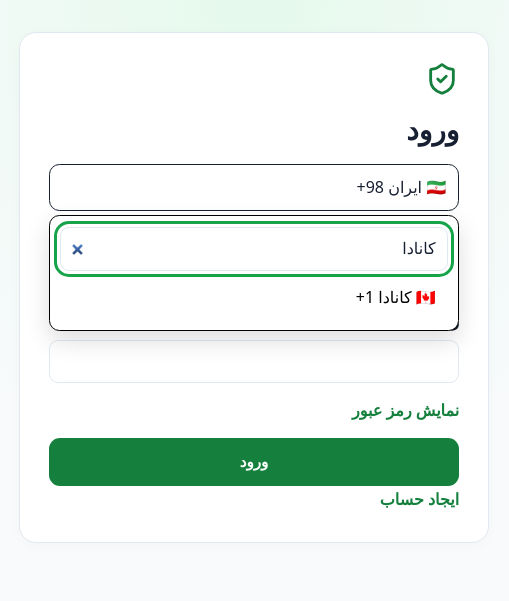
Test case: country search and selection, national input, validation, password visibility and login
Earlier steps of the test are not shown.
Later steps or results of the test are not shown.
Click the button "🇨🇦 کانادا +1" at point(395, 297), box [60, 275, 448, 320]
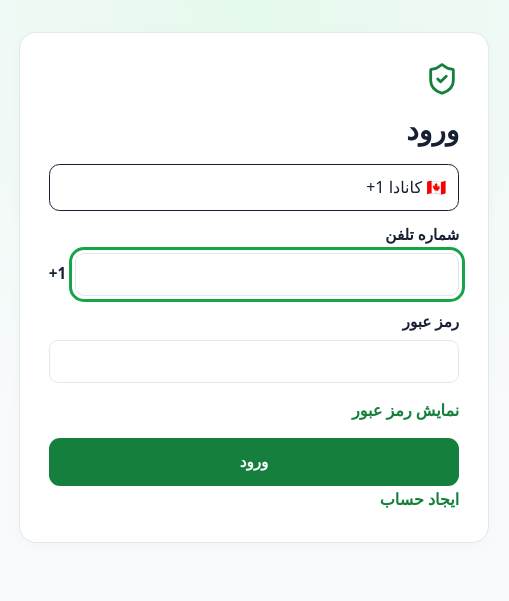
Expected: the element showing "+1" is shown, [49, 253, 459, 296]
Type "x۱۲۳" into the field labelled "شماره تلفن +1" at point(267, 274), box [75, 253, 459, 296]
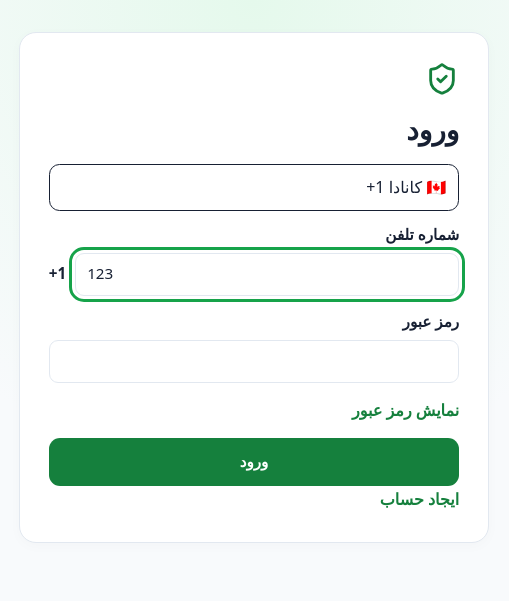
Expected: the field labelled "شماره تلفن +1" holds "123", [75, 253, 459, 296]
Type "test-password" into the password field labelled "رمز عبور" at point(254, 362), box [49, 340, 459, 384]
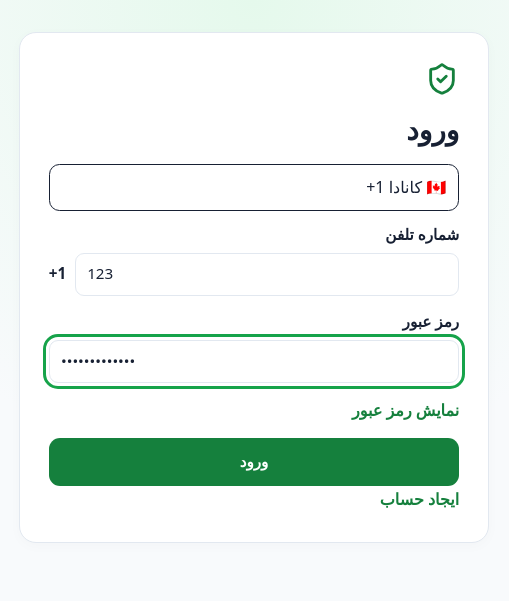
Click the button "نمایش رمز عبور" at point(406, 411), box [352, 397, 459, 424]
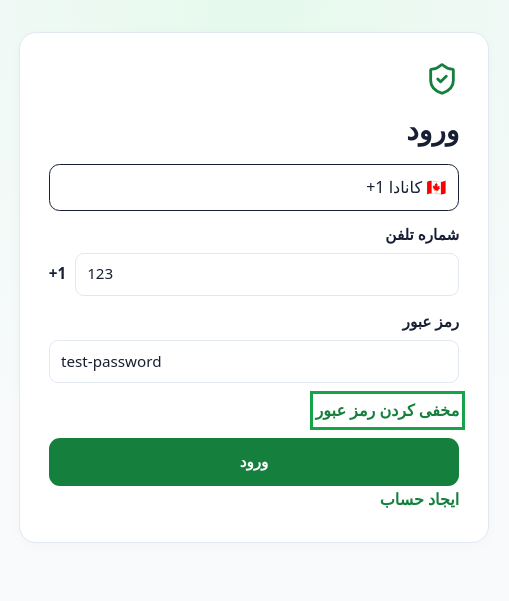
Click the button "مخفی کردن رمز عبور" at point(387, 411), box [316, 397, 459, 424]
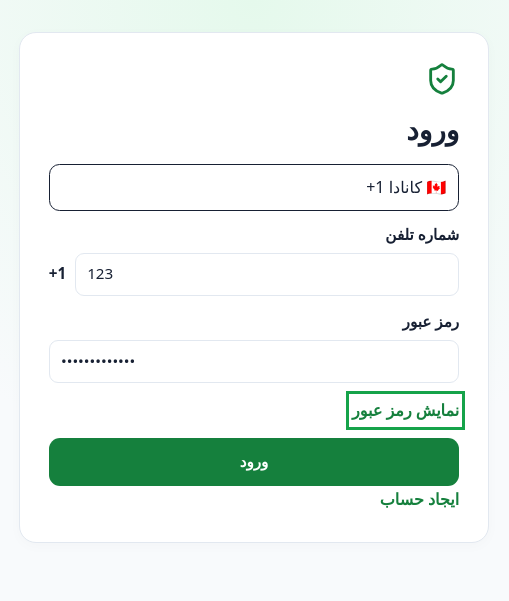
Click the button "ورود" at point(254, 462), box [49, 438, 459, 486]
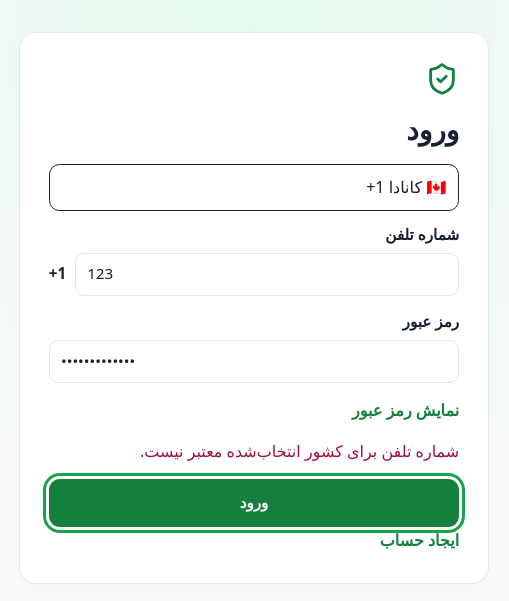
Expected: the message shows "معتبر نیست", [140, 440, 459, 462]
